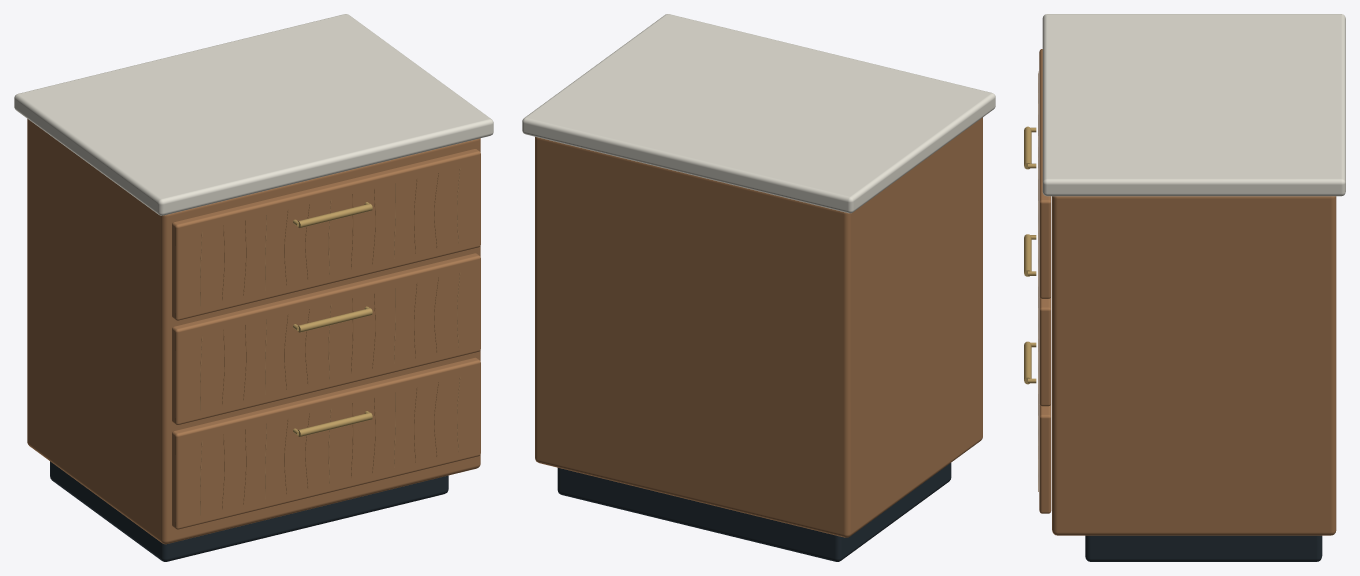
File: officeOakKitchen.glb
3 views of the same model, side by side, from view 1: azimuth 30°, elevation 25°; view 2: azimuth 150°, elevation 25°; view 3: azimuth 270°, elevation 25° (orthographic). The views are drawn at different scales.
Bounding box in the file's own units: 0.84 × 0.92 × 0.679.
